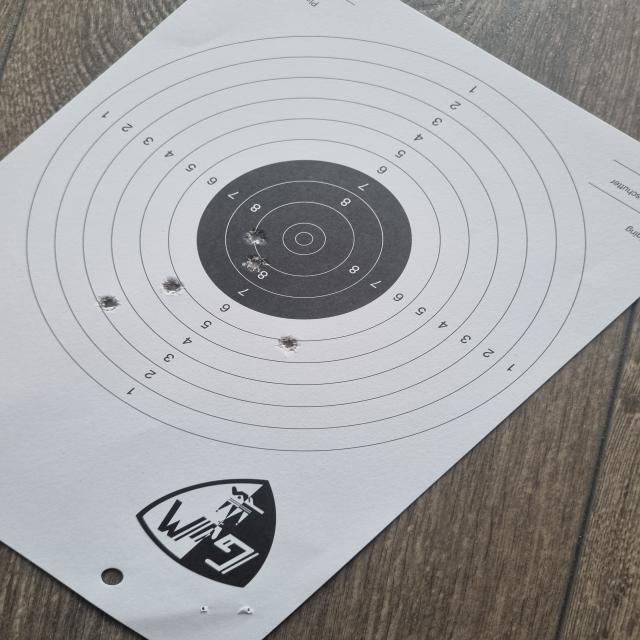3: (95, 294, 120, 312)
6: (160, 278, 186, 295), (277, 336, 299, 352)
9: (242, 256, 270, 272), (244, 228, 268, 246)
Target: (25, 35, 587, 453)
black_contour: (197, 159, 413, 320)
